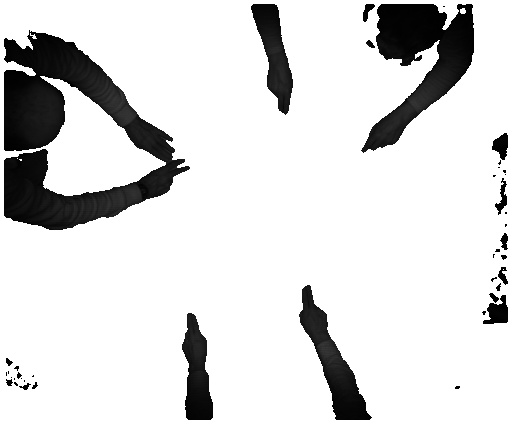hand: (128, 115, 176, 163), (146, 160, 191, 207), (360, 115, 407, 159), (296, 280, 330, 340), (176, 312, 207, 365), (265, 69, 295, 119)
